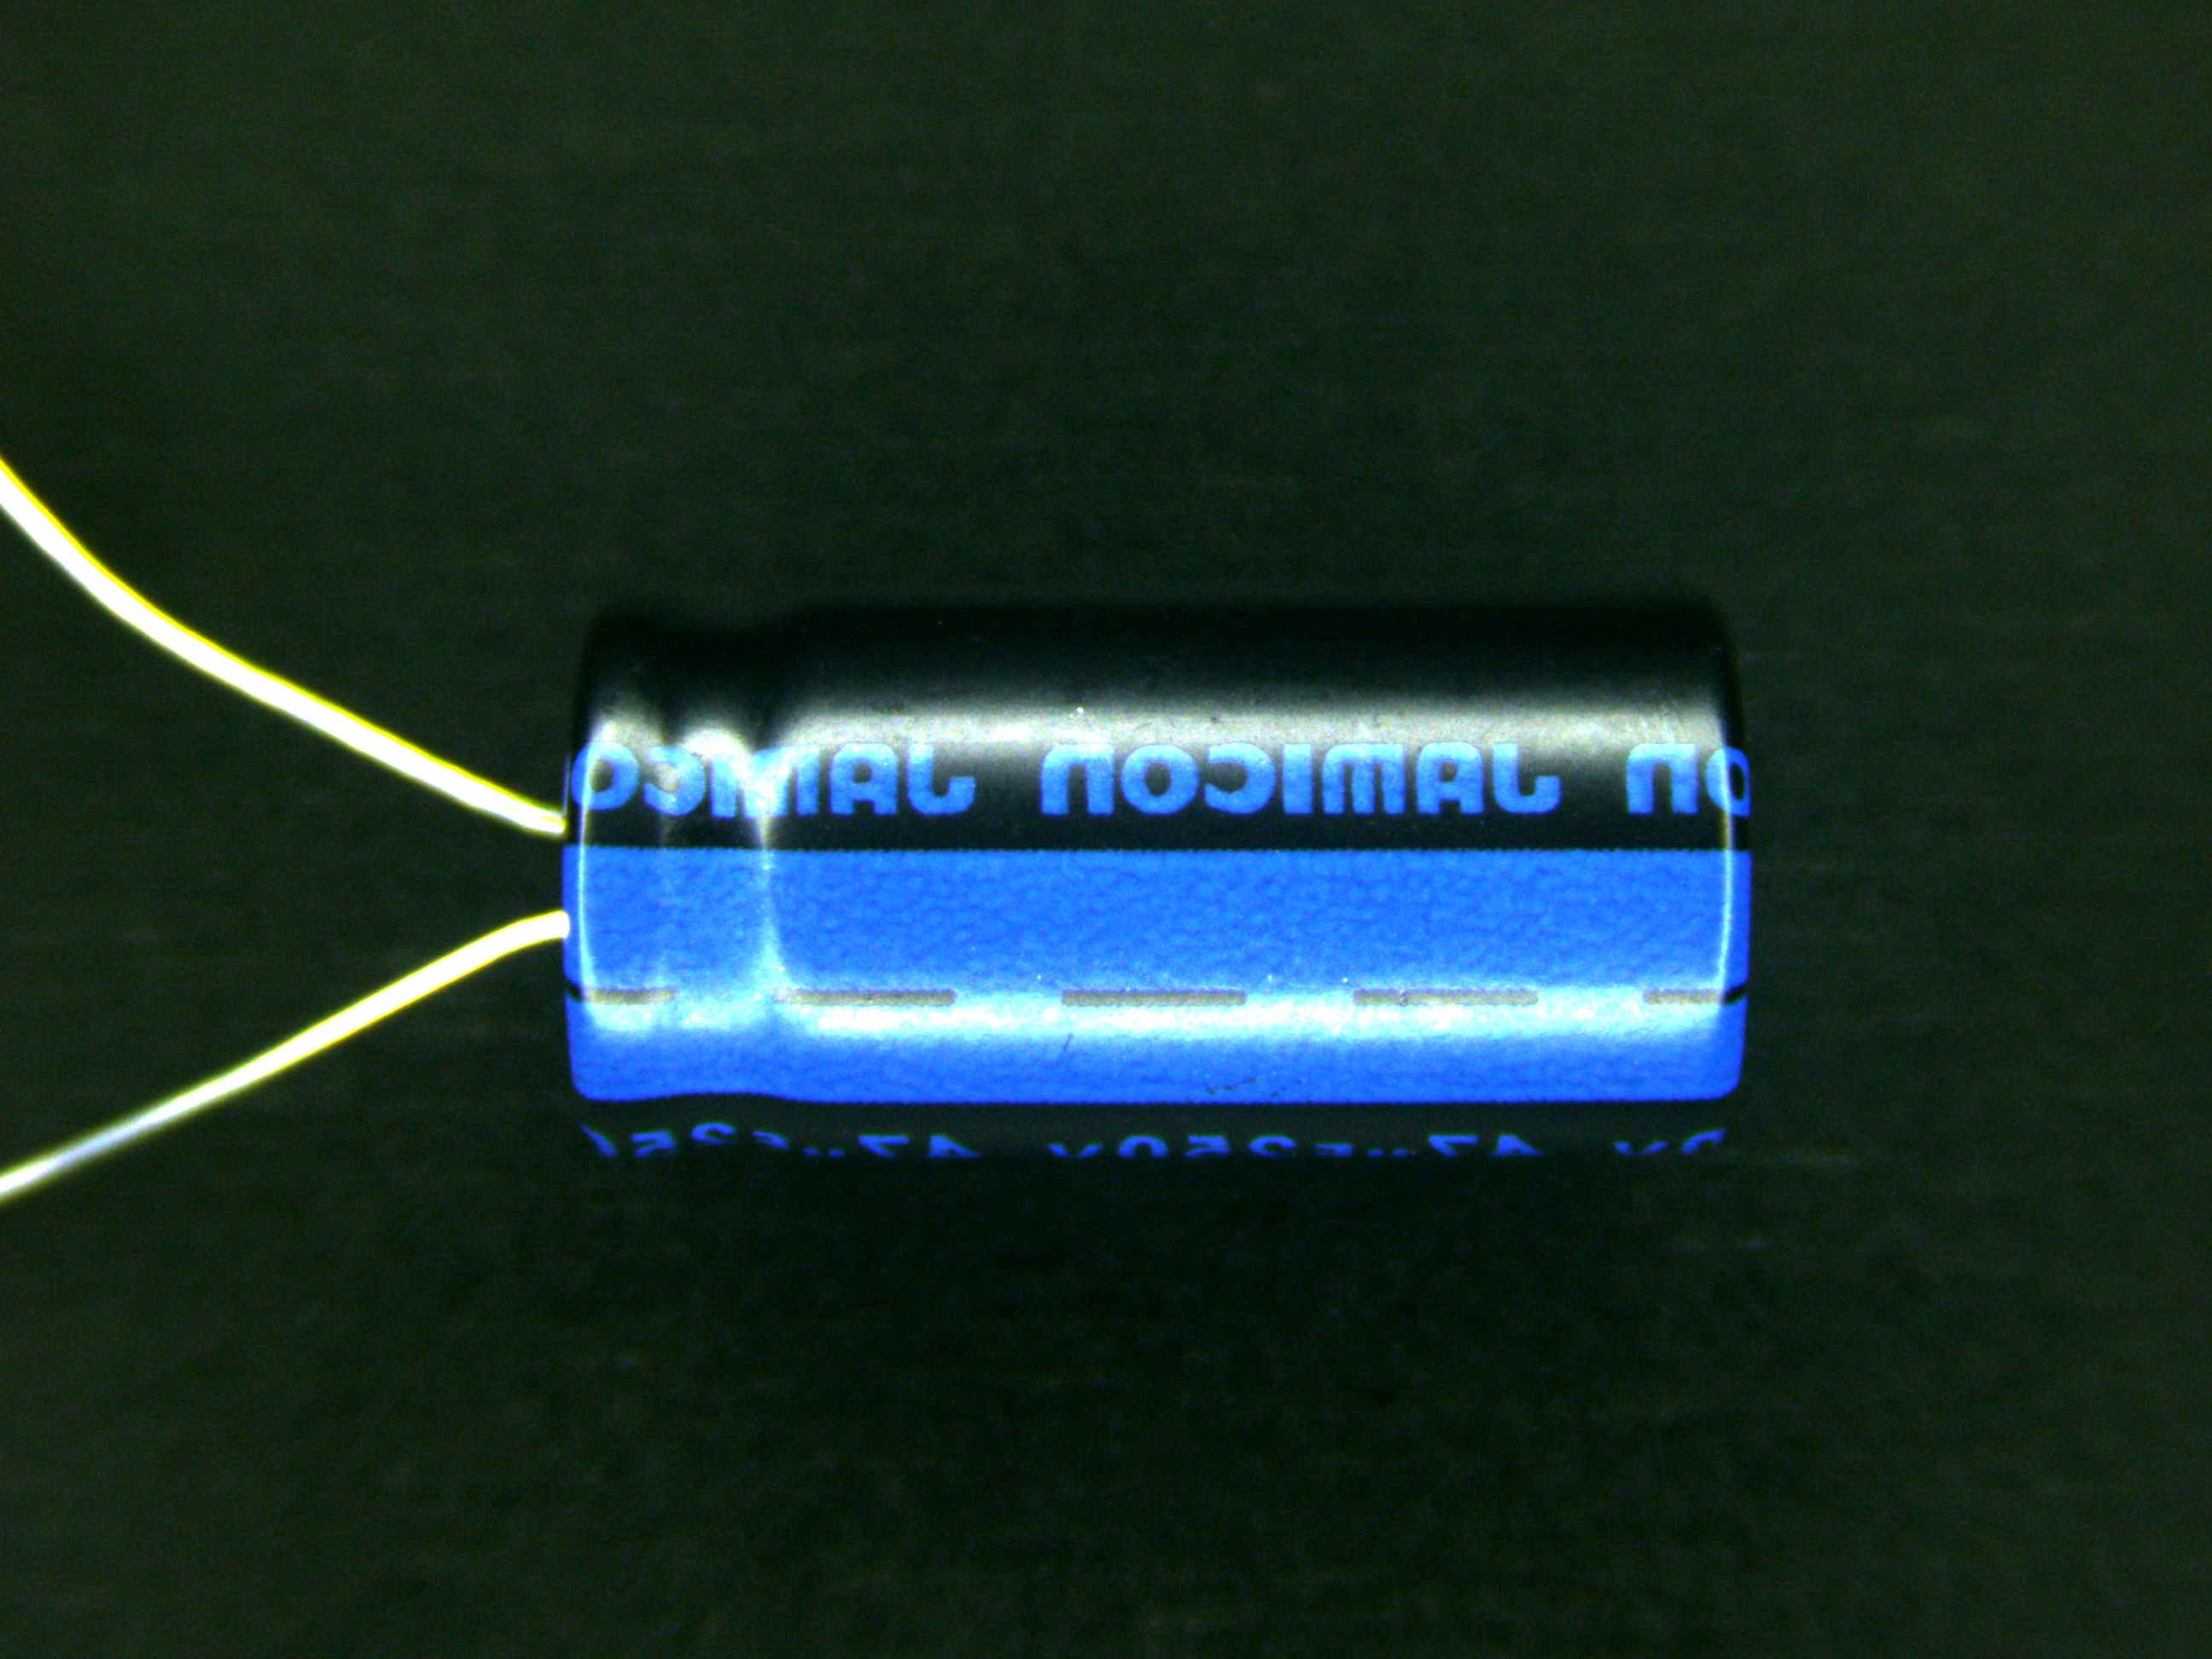c2: (341, 606, 1757, 1175)
